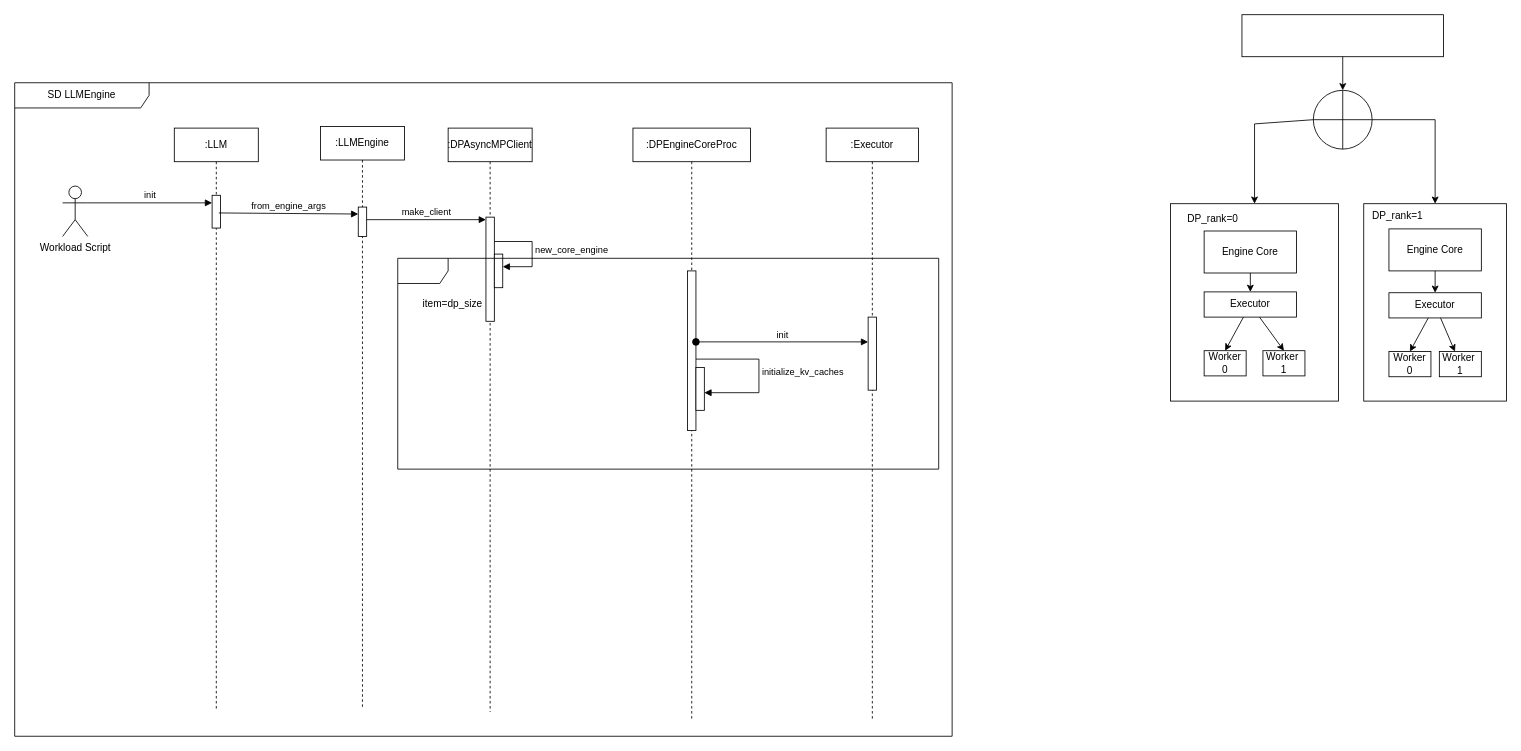
Some shapes in this 1521 by 751 pixel diagram are drawn without their labels. The centre of each missing label's shape, as x and y in pixels:
DP CLient: pixel 1342 35
loop: pixel 668 363
